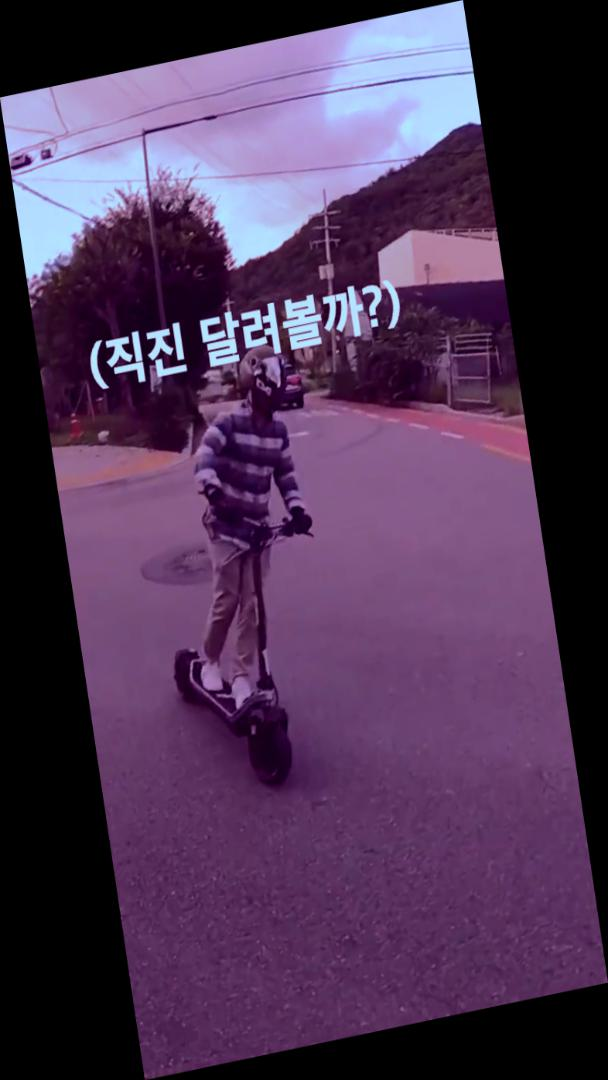helmet: (127, 339, 351, 807)
